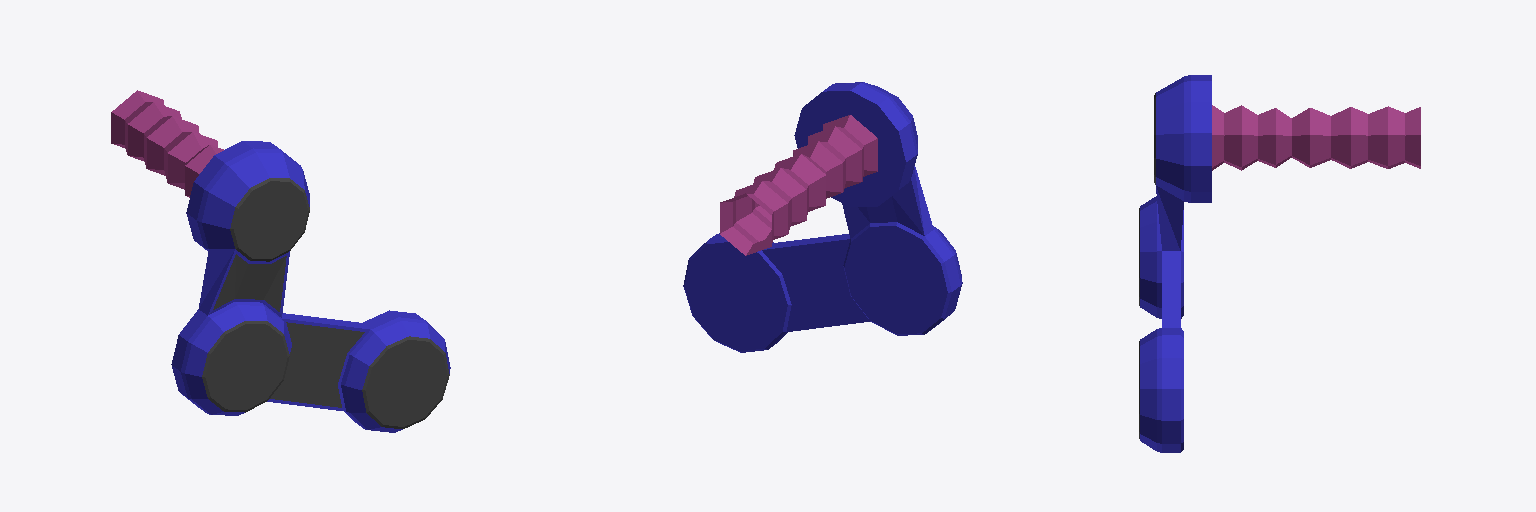
File: MachineBossArm.obj
The picture shows the model from 3 angles: view 1: azimuth 30°, elevation 25°; view 2: azimuth 150°, elevation 25°; view 3: azimuth 270°, elevation 25°; orthographic projection.
Parts seen in each view (by area): view 1: BossArm_Collision_BossArm.001; view 2: BossArm_Collision_BossArm.001; view 3: BossArm_Collision_BossArm.001.
Part boxes in pixels (left/top/right/bottom): BossArm_Collision_BossArm.001: left=111, top=90, right=450, bottom=432; BossArm_Collision_BossArm.001: left=683, top=82, right=962, bottom=352; BossArm_Collision_BossArm.001: left=1139, top=75, right=1420, bottom=452.
Bounding box in the file's own units: 2105 × 2277 × 1914.